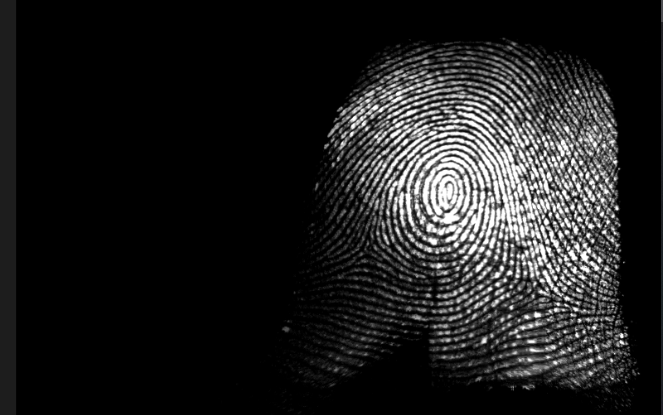deltas: (506, 262, 569, 310), (337, 224, 393, 269)
nucleo: (417, 165, 469, 223)
